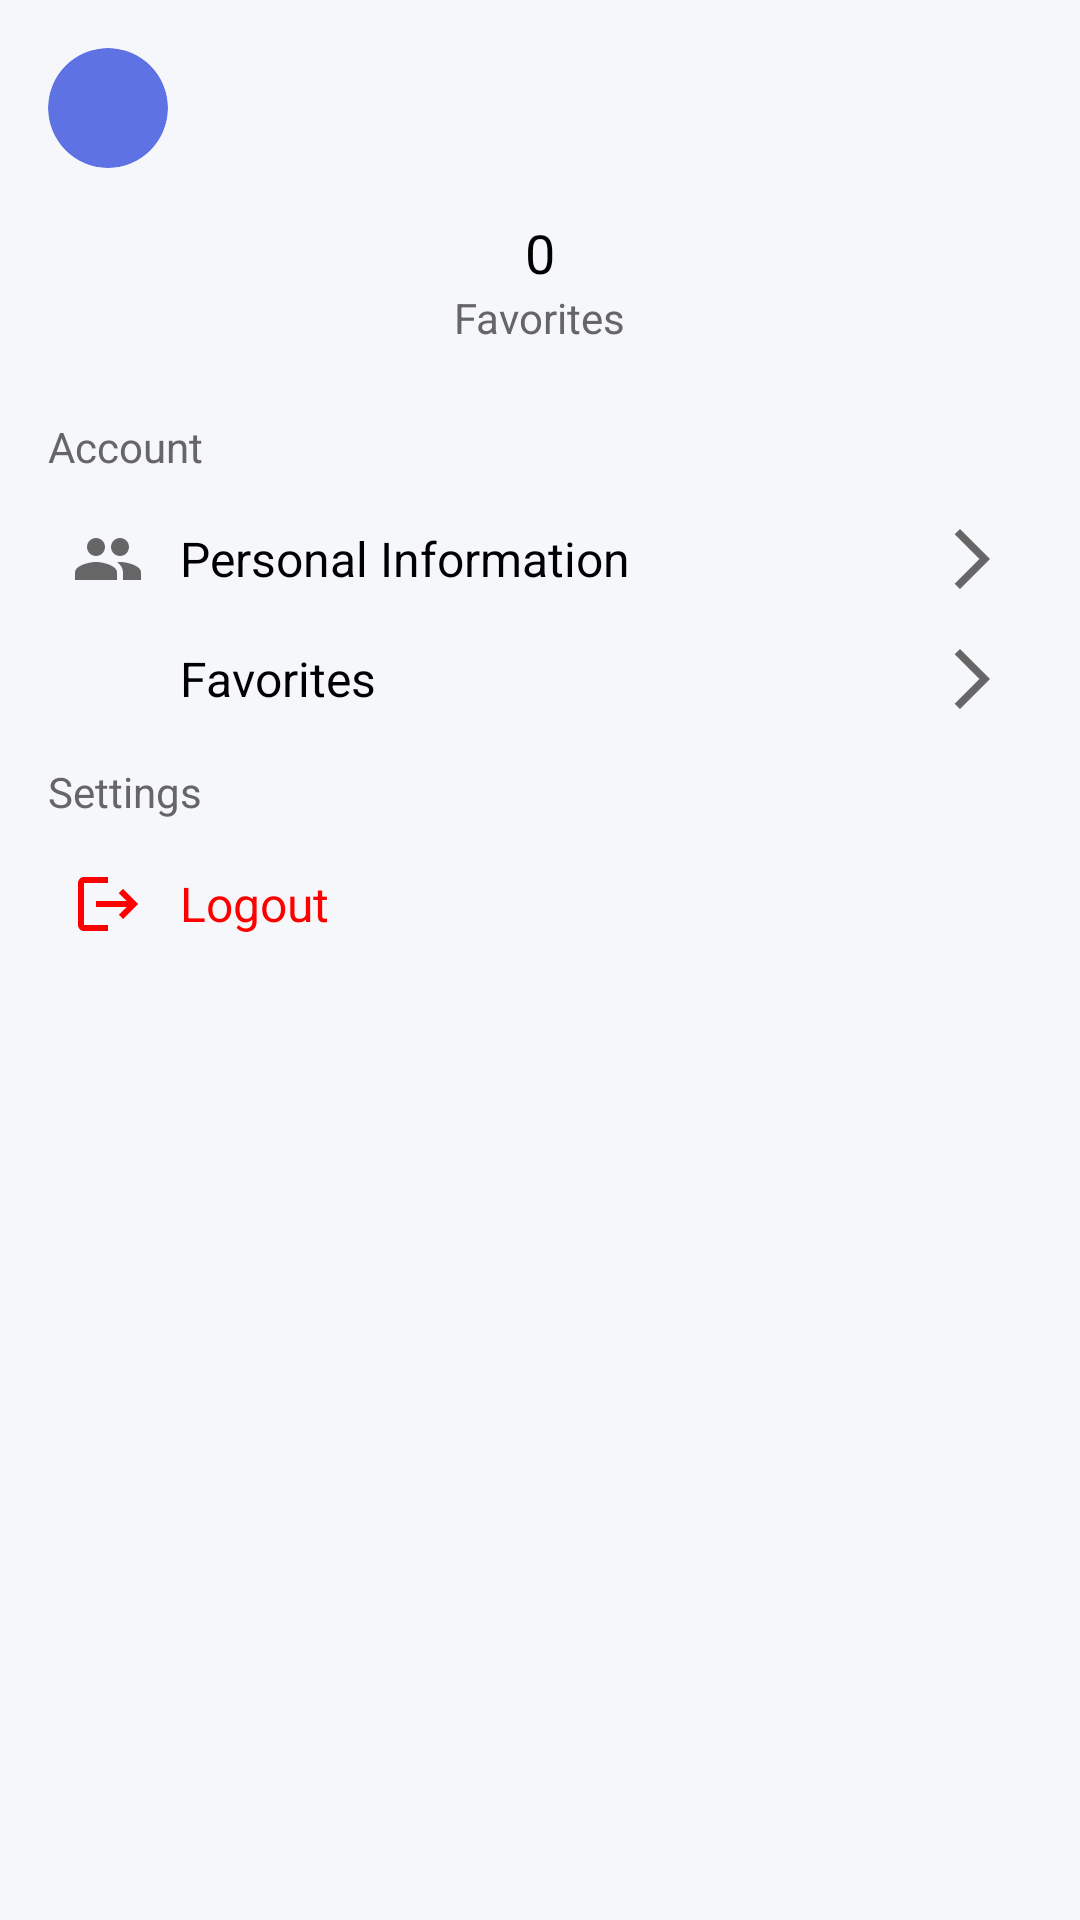

Named icons in this screenshot (1080 × 1920) and their centers, point (x, y):
arrow forward: point (972, 559), point (972, 679)
people: point (108, 559)
